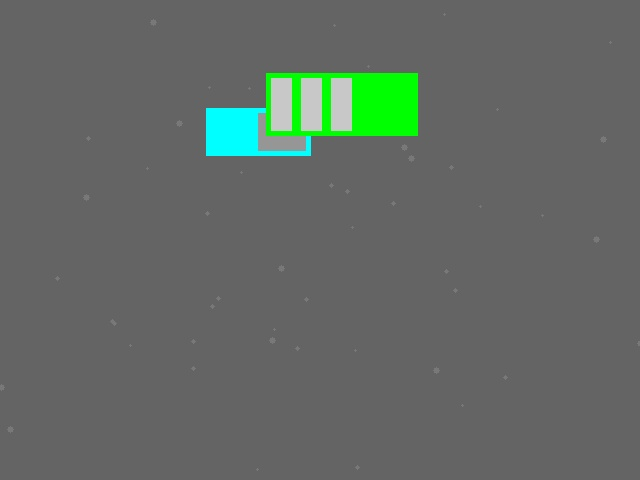bus: (266, 73, 417, 135)
truck: (206, 108, 310, 155)
